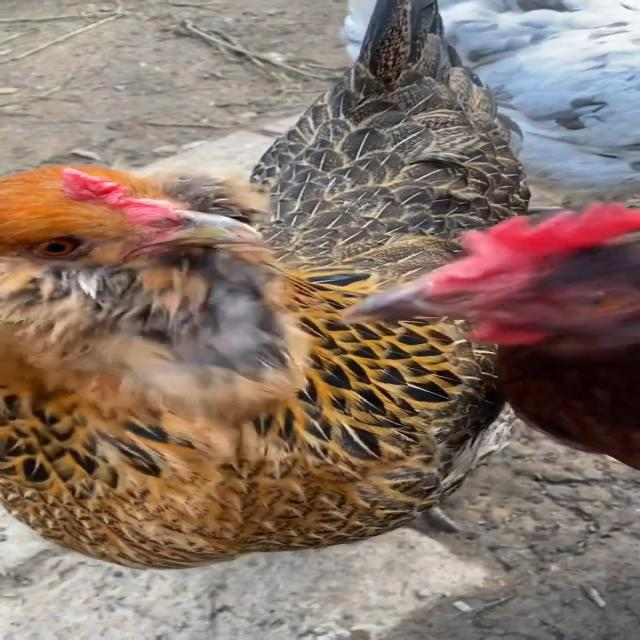allo preening: (3, 1, 640, 562)
